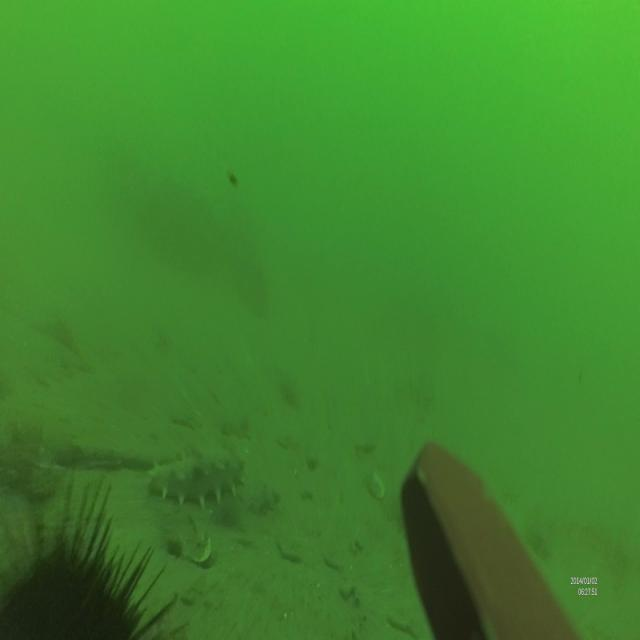echinus: (0, 474, 194, 640)
holothurian: (150, 447, 247, 511)
